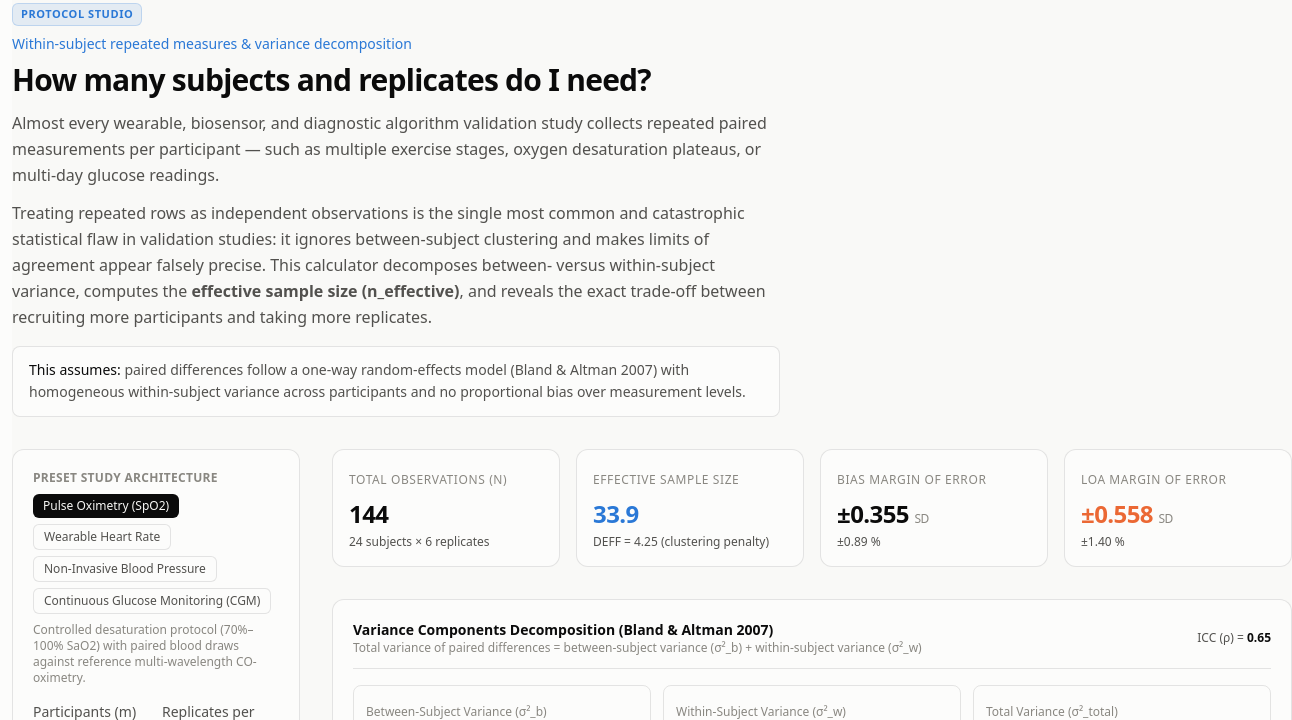
Test case: RepeatedMeasuresPage › switches preset when clicked
This screenshot has width=1292, height=720.
Click the button "Non-Invasive Blood Pressure".
click(125, 569)  # box [33,556,217,582]
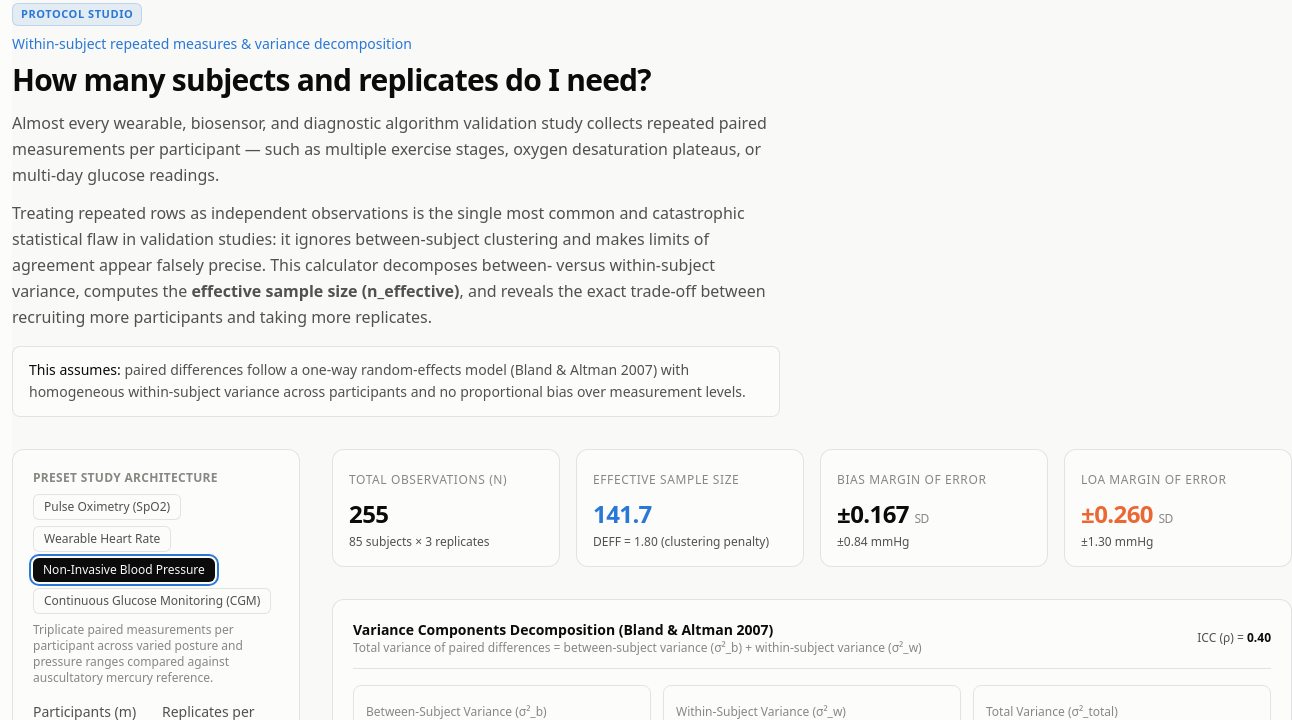
Check: the text "255" is shown, box [349,497,388,530]
Check: the text "85 subjects × 3 replicates" is shown, box [349,533,490,550]
